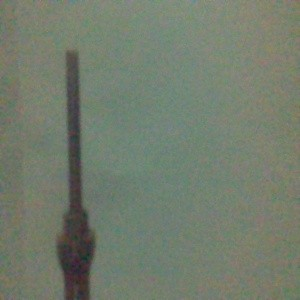obeng: (54, 48, 97, 300)
